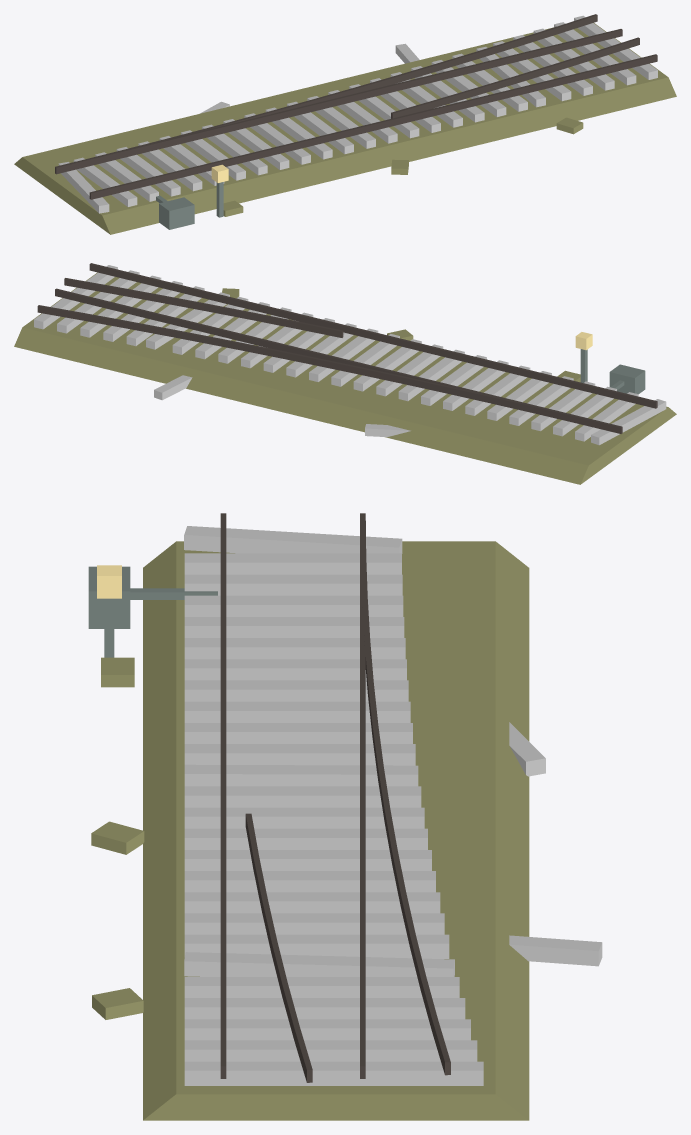
Rendered from SM_Via_DesvioIzq_v4_Danada_LOD0.fbx.
3 renders of one model, top to bottom at view 1: azimuth 30°, elevation 25°; view 2: azimuth 150°, elevation 25°; view 3: azimuth 270°, elevation 25°, orthographic. The views are drawn at different scales.
Parts seen in each view (by area): view 1: SM_via_trazado_v29_LOD0; view 2: SM_via_trazado_v29_LOD0; view 3: SM_via_trazado_v29_LOD0.
Boxes of the visible parts, x1,y1,x2,y2 form: SM_via_trazado_v29_LOD0: (14, 14, 676, 234); SM_via_trazado_v29_LOD0: (14, 263, 676, 484); SM_via_trazado_v29_LOD0: (88, 513, 602, 1120).
Bounding box in the file's own units: 15.79 × 1.27 × 6.15.
